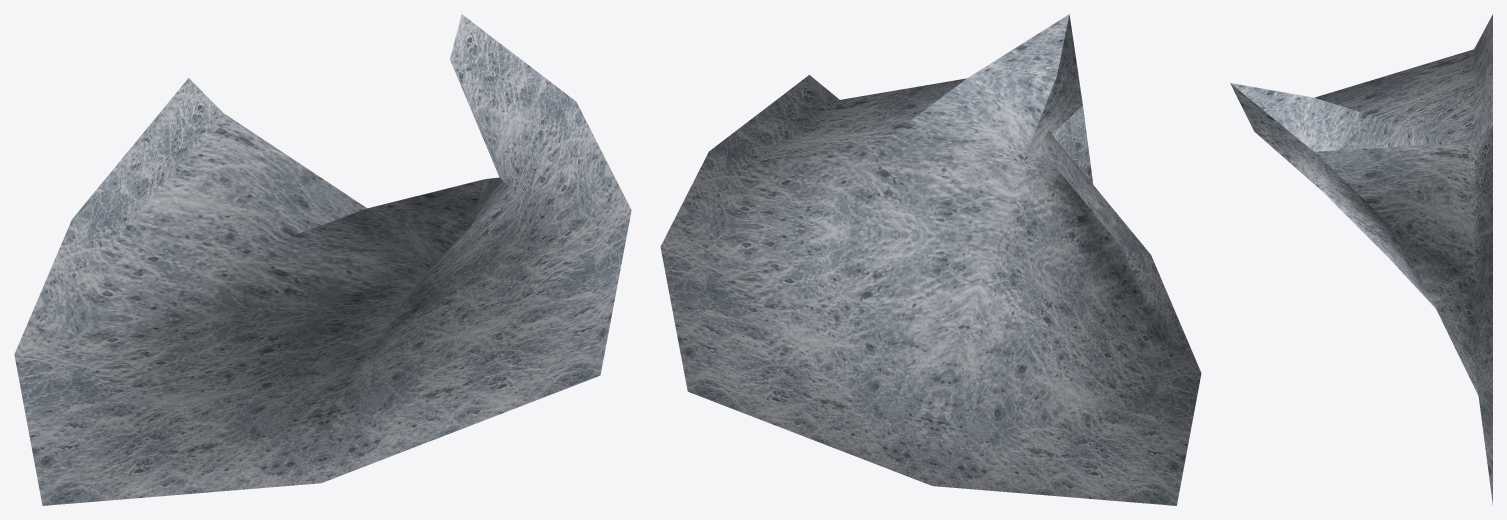
The model's file is rv_mod_cit_snowdrift.obj.
3 views of the same model, side by side, from view 1: azimuth 30°, elevation 25°; view 2: azimuth 150°, elevation 25°; view 3: azimuth 270°, elevation 25° (orthographic). The views are drawn at different scales.
Parts seen in each view (by area): view 1: rv_mod_cit_snowdrift; view 2: rv_mod_cit_snowdrift; view 3: rv_mod_cit_snowdrift.
Boxes of the visible parts, bbox=[...] form: rv_mod_cit_snowdrift: bbox=[14, 14, 631, 505]; rv_mod_cit_snowdrift: bbox=[660, 14, 1201, 505]; rv_mod_cit_snowdrift: bbox=[1230, 14, 1492, 504].
Size of the model in its own units: 7.53 by 5.1 by 3.38.
Materials: 1 (1 with a texture image).
